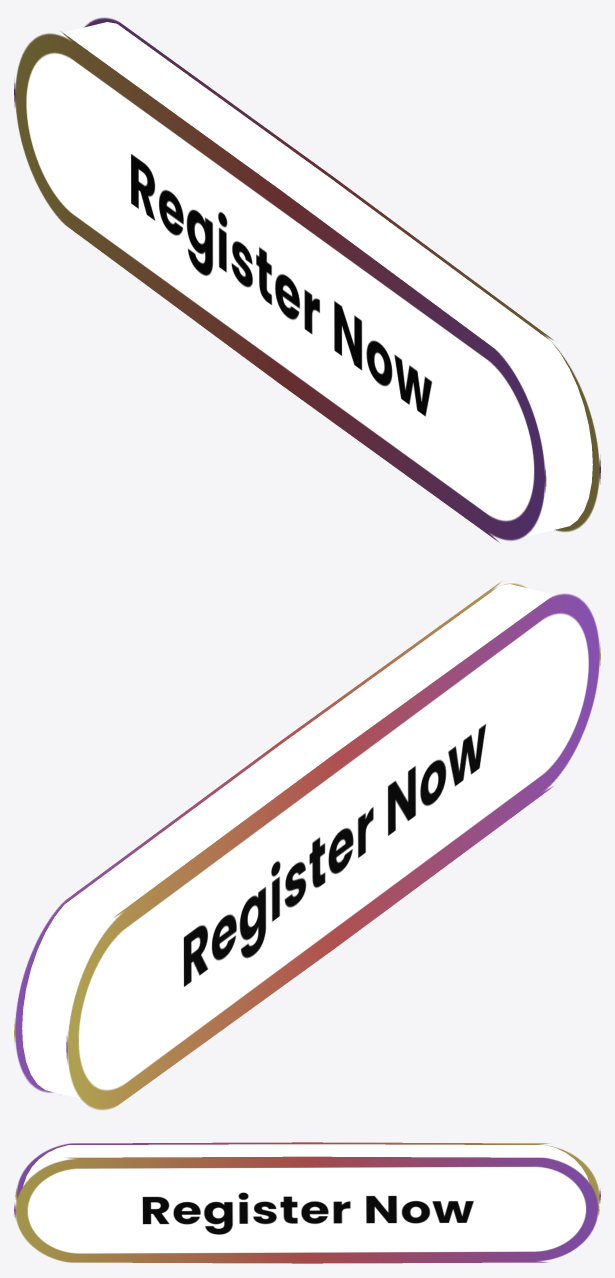
File: register.glb
3 renders of one model, top to bottom at view 1: azimuth 30°, elevation 25°; view 2: azimuth 150°, elevation 25°; view 3: azimuth 270°, elevation 25°, orthographic. The views are drawn at different scales.
Visible parts, largest first — view 1: register, registerPannel.001, registerPannel; view 2: register, registerPannel.001, registerPannel; view 3: register, registerPannel, registerPannel.001.
Part boxes in pixels (x1,y1,x2,y2): register: (26,22,592,540); registerPannel.001: (14,31,546,542); registerPannel: (84,17,600,531); register: (22,584,588,1098); registerPannel.001: (66,593,600,1109); registerPannel: (14,581,526,1092); register: (23,1144,589,1260); registerPannel: (14,1156,599,1263); registerPannel.001: (15,1142,600,1204).
Bounding box in the file's own units: 0.2102 × 0.731 × 3.64.
Materials: 2 (1 with a texture image).
